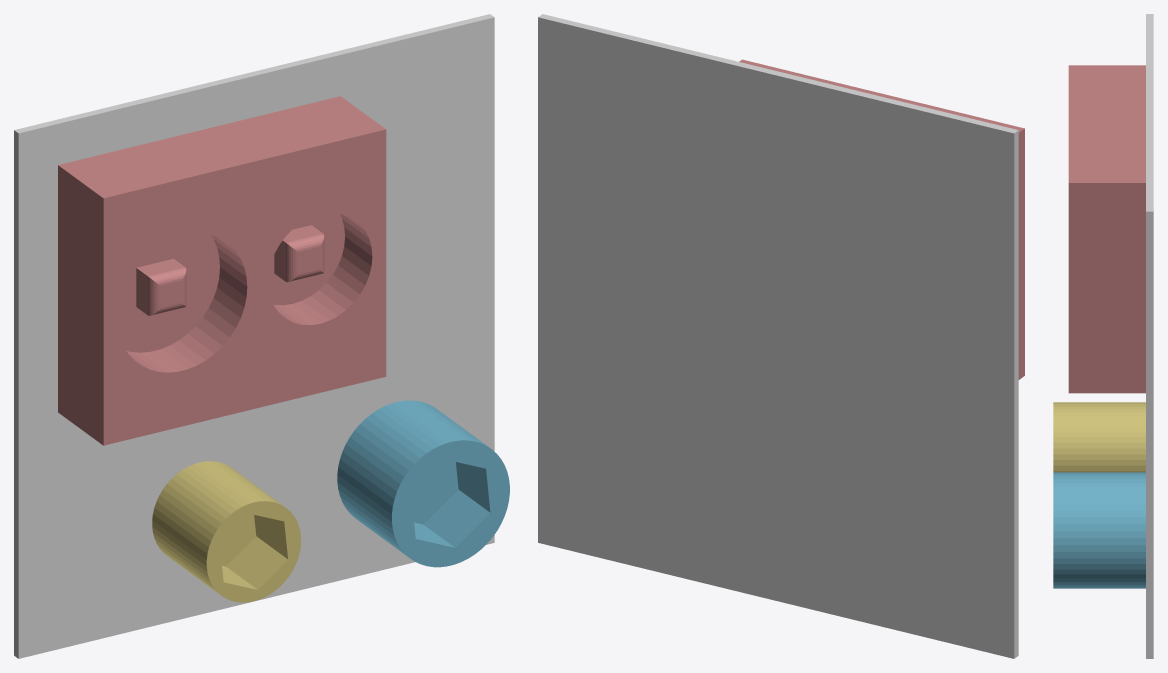
The model's file is pickup_layout.glb.
The picture shows the model from 3 angles, left to right: view 1: azimuth 30°, elevation 25°; view 2: azimuth 150°, elevation 25°; view 3: azimuth 270°, elevation 25°; orthographic projection. The views are drawn at different scales.
Parts seen in each view (by area): view 1: world, 0.obj, 2.obj, 1.obj; view 2: world, 0.obj; view 3: 0.obj, 2.obj, 1.obj, world.
Boxes of the visible parts, box(x1,y1,x2,y2) form: world: box(14, 14, 494, 658); 0.obj: box(58, 96, 386, 445); 2.obj: box(337, 400, 509, 567); 1.obj: box(152, 461, 300, 602); world: box(538, 14, 1018, 658); 0.obj: box(739, 59, 1024, 379); 0.obj: box(1068, 65, 1145, 393); 2.obj: box(1053, 472, 1145, 588); 1.obj: box(1053, 402, 1145, 472); world: box(1146, 14, 1153, 658).
Size of the model in its own units: 12.08 by 12.75 by 2.6.
